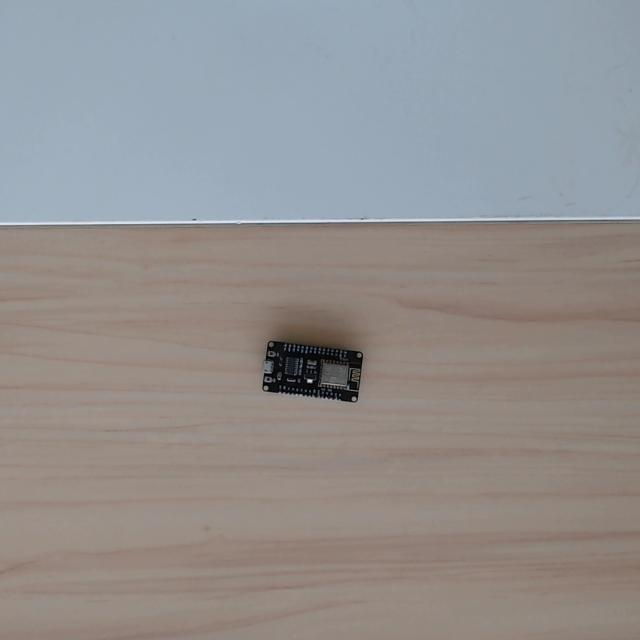ESP8266-NodeMCU: (259, 341, 365, 406)
